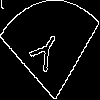Y: (24, 25, 63, 82)
